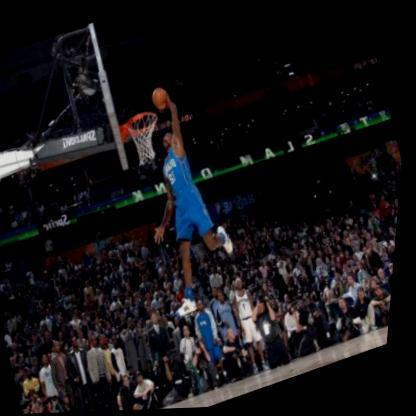basketball: (150, 87, 173, 113)
rim: (120, 108, 173, 170)
